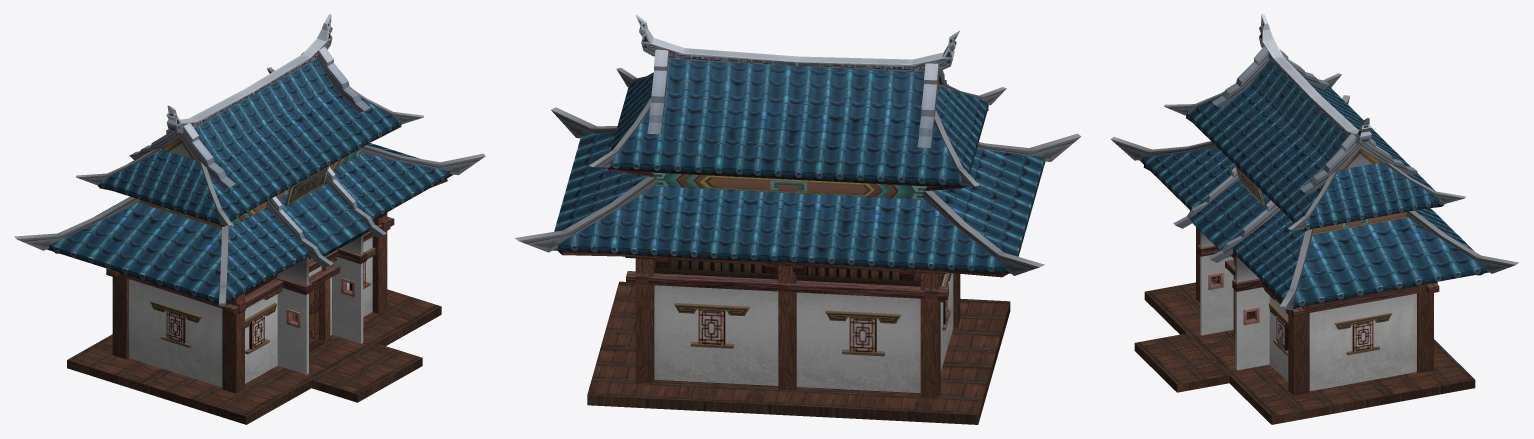
Rendered from ChineseBuilding.obj.
3 views of the same model, side by side, from view 1: azimuth 30°, elevation 25°; view 2: azimuth 150°, elevation 25°; view 3: azimuth 270°, elevation 25° (orthographic). The views are drawn at different scales.
Parts seen in each view (by area): view 1: ChineseBuilding:chineseFBXASC032buildingFBXASC032002; view 2: ChineseBuilding:chineseFBXASC032buildingFBXASC032002; view 3: ChineseBuilding:chineseFBXASC032buildingFBXASC032002.
Part boxes in pixels (x1,y1,x2,y2): ChineseBuilding:chineseFBXASC032buildingFBXASC032002: [14, 14, 485, 424]; ChineseBuilding:chineseFBXASC032buildingFBXASC032002: [515, 14, 1081, 424]; ChineseBuilding:chineseFBXASC032buildingFBXASC032002: [1110, 14, 1518, 424].
Bounding box in the file's own units: 14.26 × 8.7 × 11.65.
Materials: 2 (2 with a texture image).
